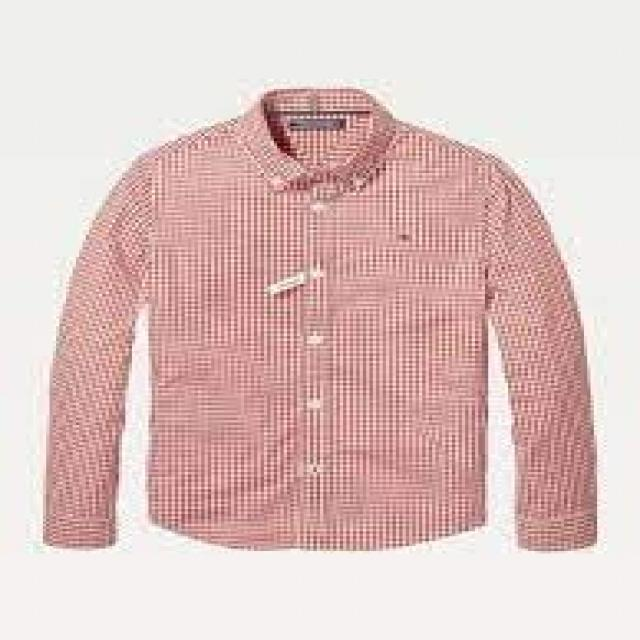plaid: (39, 75, 604, 559)
